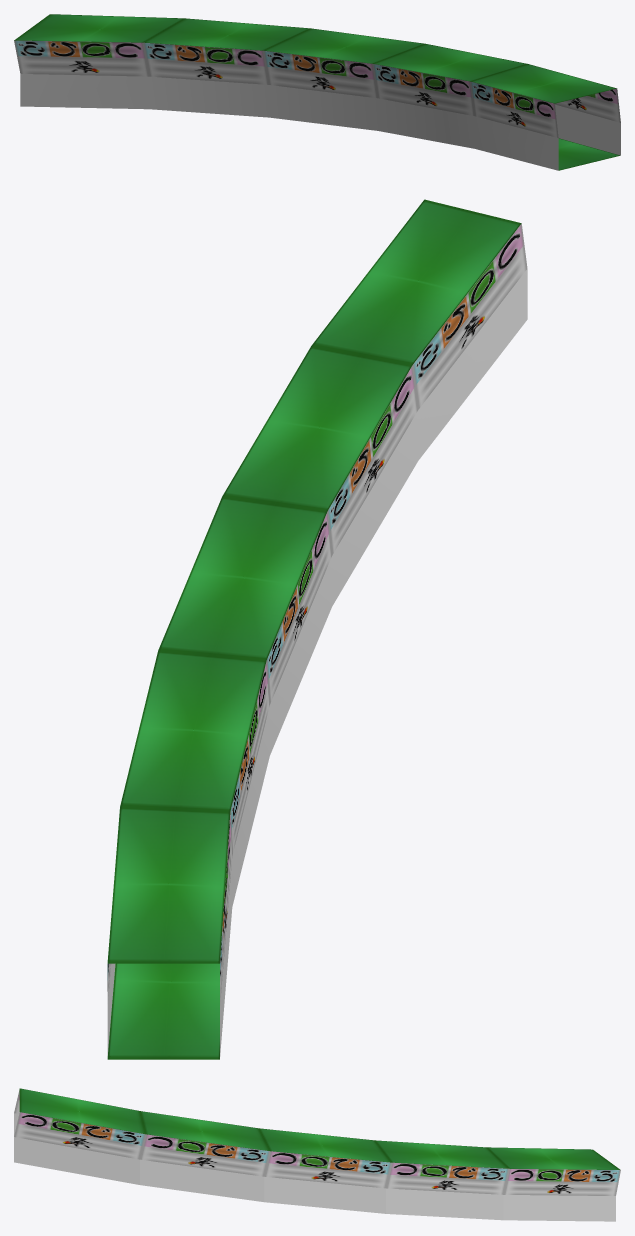
The model's file is CourseSpring_Box_Wall_L_10.fbx.
3 views of the same model, one above another, from view 1: azimuth 30°, elevation 25°; view 2: azimuth 150°, elevation 25°; view 3: azimuth 270°, elevation 25° (orthographic). The views are drawn at different scales.
Visible parts, largest first — view 1: polySurface58; view 2: polySurface58; view 3: polySurface58.
Boxes of the visible parts, x1,y1,x2,y2 form: polySurface58: (14,14,620,170); polySurface58: (107,199,527,1059); polySurface58: (14,1088,620,1221).
Size of the model in its own units: 7.57 by 6.97 by 21.59.
1 material, 1 textured.
